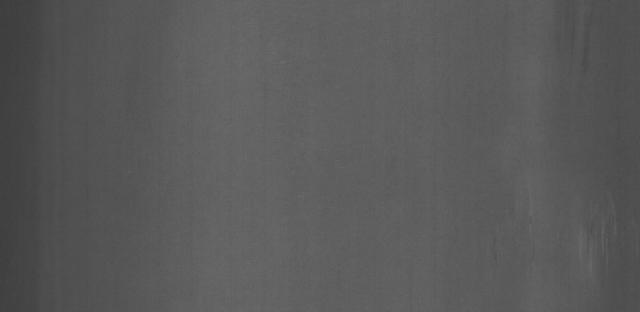silk_spot: (538, 208, 635, 277), (540, 15, 614, 93)
